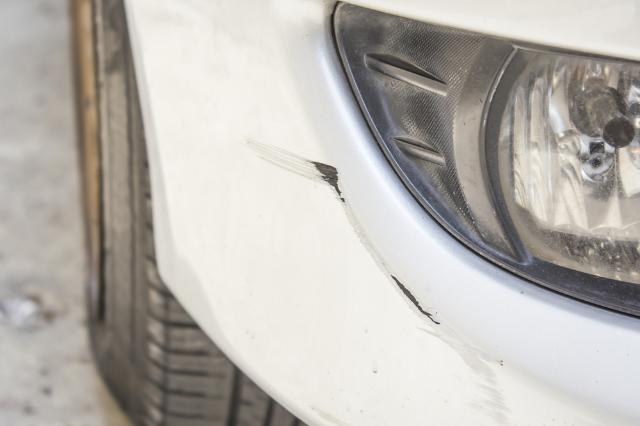scratch: (243, 132, 519, 426)
